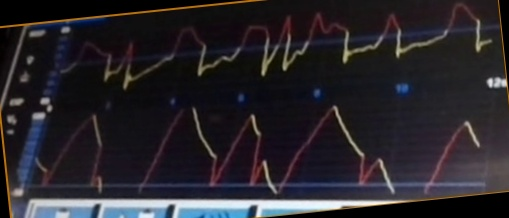Double_Triggering Flow: (66, 13, 432, 89)
Double_Triggering Volume: (37, 107, 409, 195)
